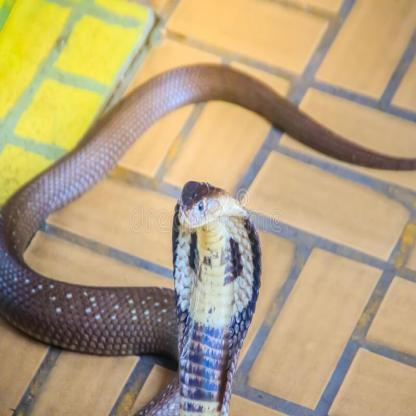Snake: (0, 32, 293, 415)
